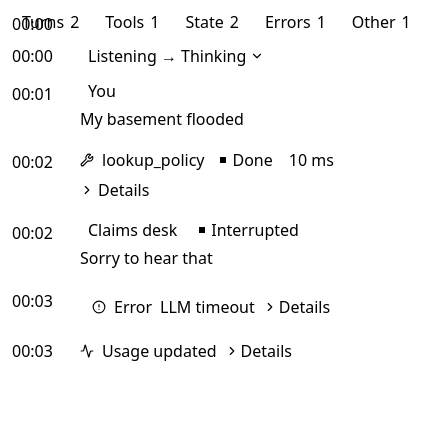
Scenario: <TimelineView /> › collapses agent state into a thin track that expands to each change
Click the button "Listening → Thinking". click: {"x": 176, "y": 56}
box: [88,44,264,68]
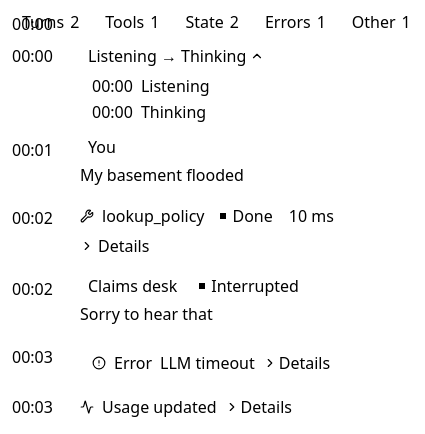
Expected: the button "Listening → Thinking" is expanded, [88,44,264,68]
